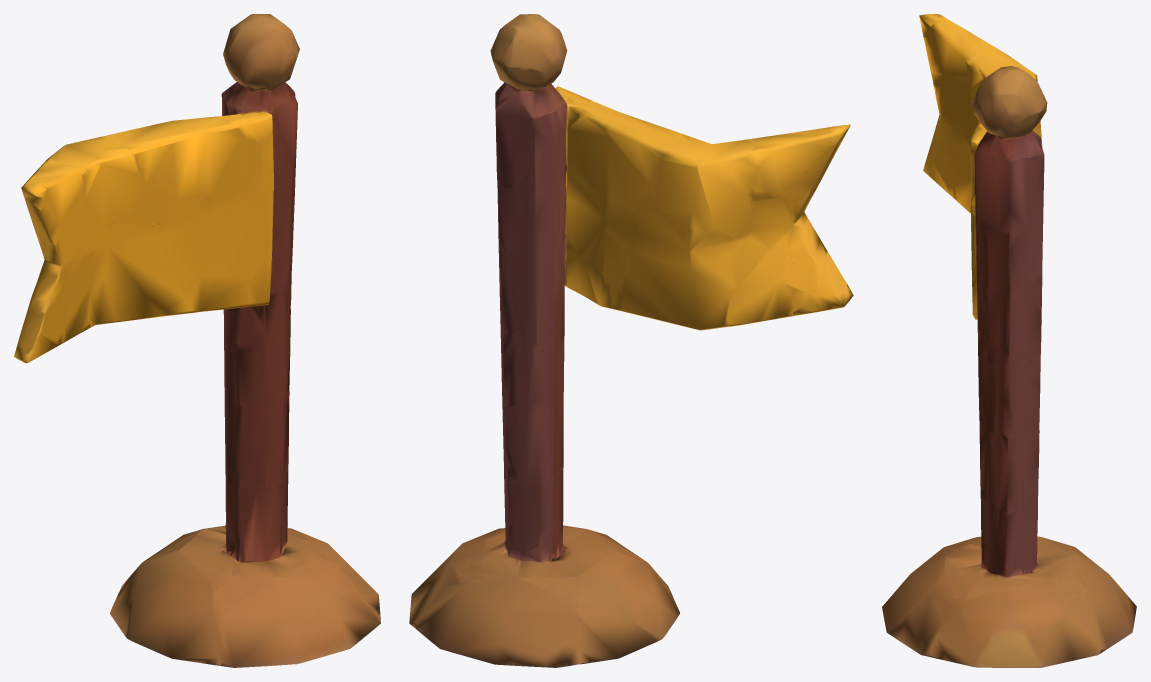
Rendered from lampe.glb.
3 renders of one model, left to right at view 1: azimuth 30°, elevation 25°; view 2: azimuth 150°, elevation 25°; view 3: azimuth 270°, elevation 25°, orthographic. The views are drawn at different scales.
Parts seen in each view (by area): view 1: mesh_node; view 2: mesh_node; view 3: mesh_node.
Part boxes in pixels (x1,y1,x2,y2): mesh_node: (14, 14, 380, 667); mesh_node: (409, 14, 853, 667); mesh_node: (882, 14, 1136, 667).
Size of the model in its own units: 1.29 by 1.9 by 0.7933.
1 material, 1 textured.
